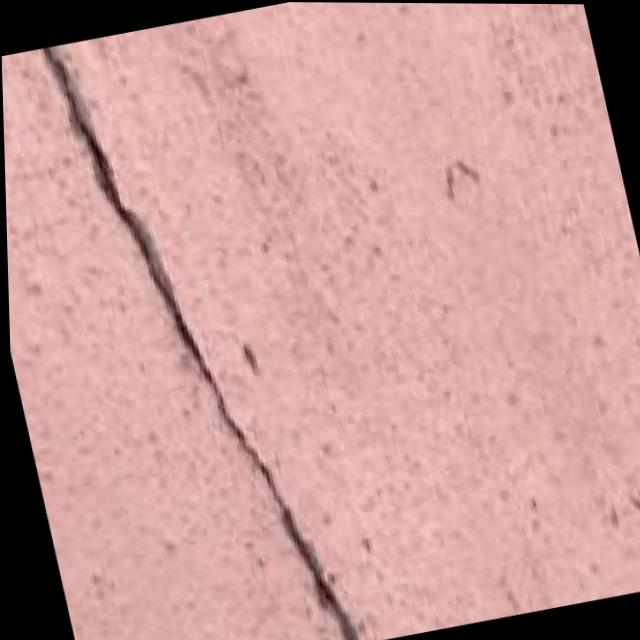Crack: (0, 5, 400, 640)
